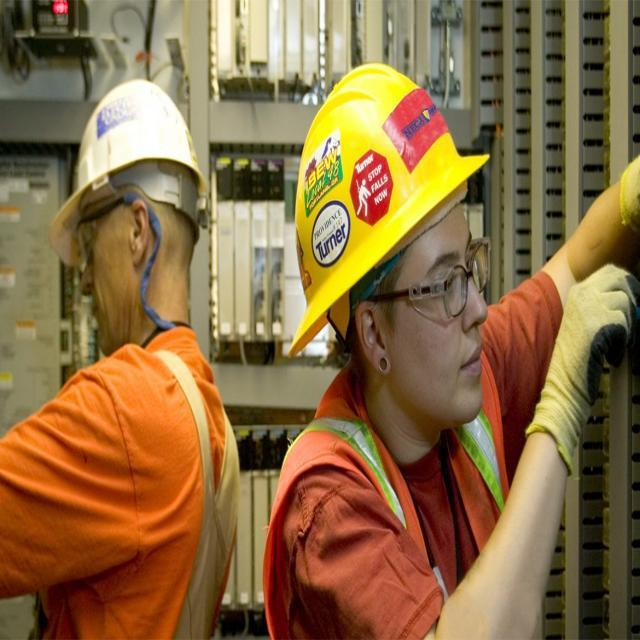reflective_jacket: (3, 317, 230, 639), (263, 373, 518, 638)
safety_helmet: (287, 57, 486, 344), (44, 70, 216, 270)
